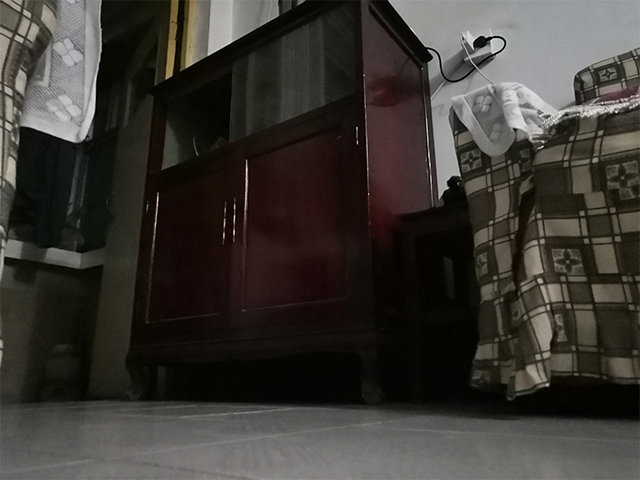cabinet: (121, 1, 446, 407)
sofa: (447, 42, 640, 405)
